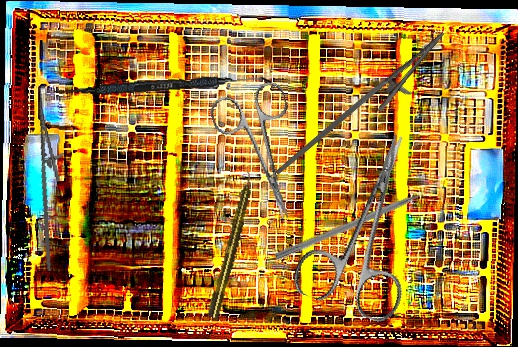Handpiece: (205, 169, 259, 320)
Iris Scissors: (288, 118, 454, 327), (206, 78, 320, 232)
Needle Holder: (275, 13, 457, 204), (18, 105, 84, 272)
Pusher: (274, 183, 442, 263)
Spatula Surgical: (53, 69, 272, 102)
